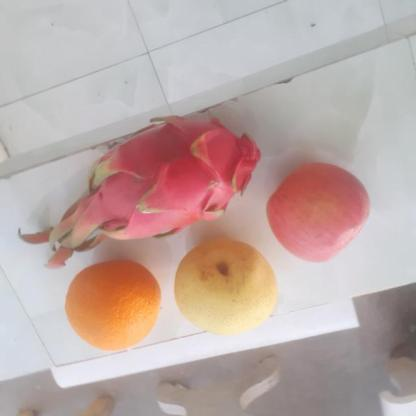apple: (266, 166, 373, 262)
orange: (63, 258, 165, 356)
pear: (172, 240, 284, 335)
pitaya: (78, 118, 269, 243)
